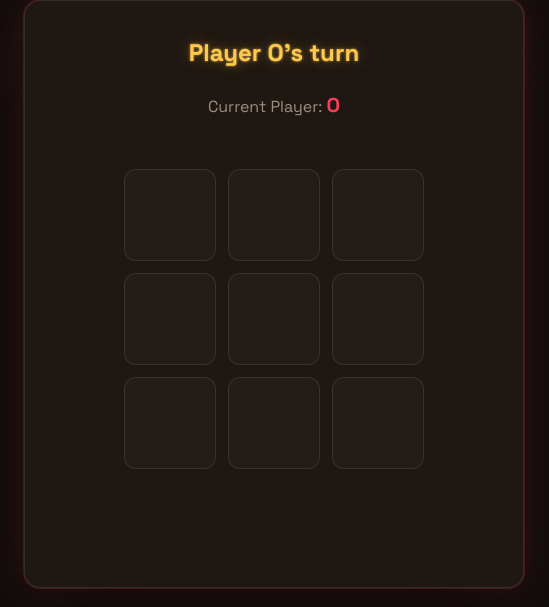
Test case: Board Component › allows players to make moves
The width and height of the screenshot is (549, 607).
// First player (O) makes a move
Click the cell named "Empty block 1 at row 1, column 1. Click to place your mark.": (170, 215) [124,169,216,261]
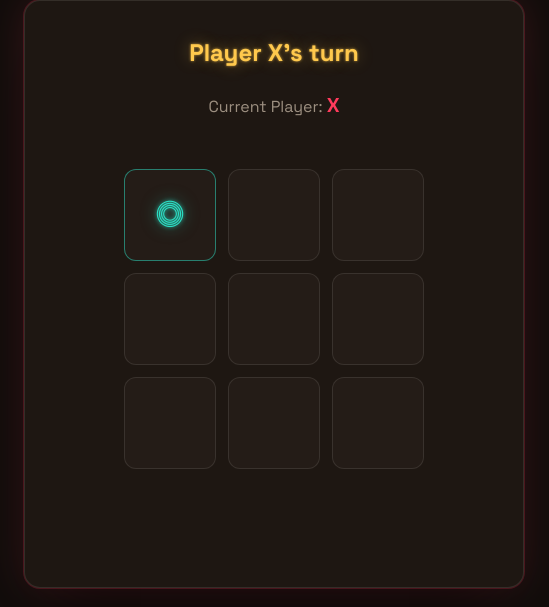
Expected: the cell "O" is shown, [124,169,216,261]
// Second player (X) makes a move
Click the cell named "Empty block 2 at row 1, column 2. Click to place your mark.": (274, 215) [228,169,320,261]
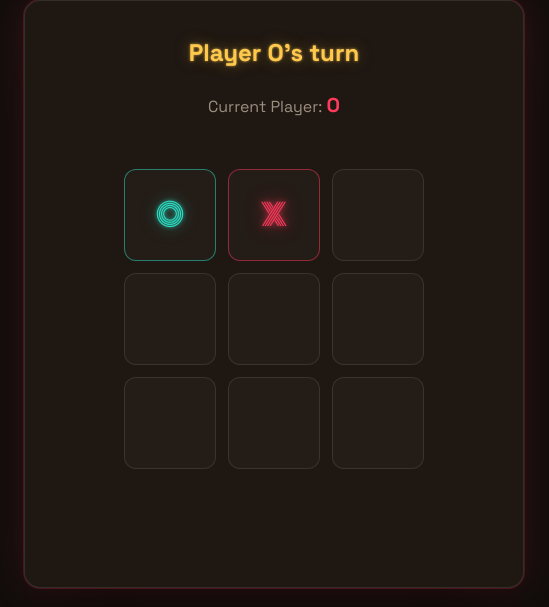
Expected: the cell "X" is shown, [228,169,320,261]
